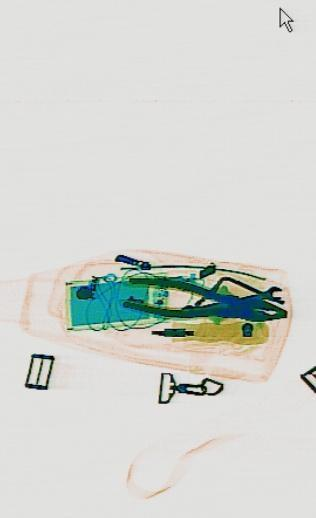Pliers: (121, 270, 288, 330)
Wrench: (178, 281, 282, 324)
